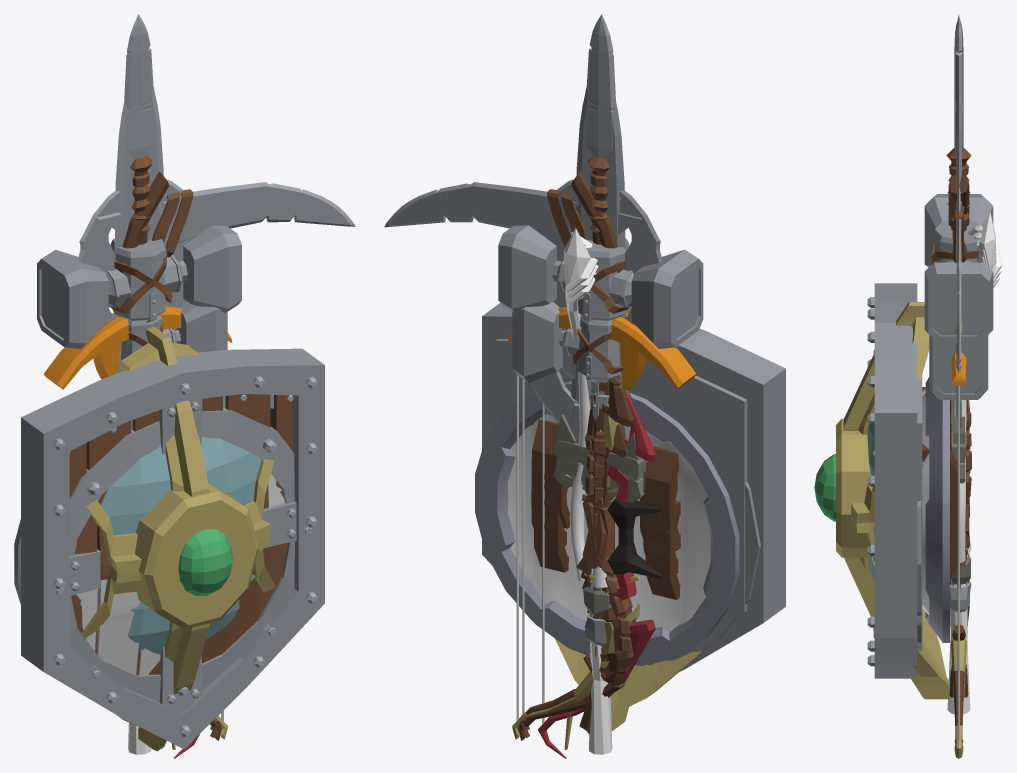
Rendered from weapons.glb.
The picture shows the model from 3 angles, left to right: view 1: azimuth 30°, elevation 25°; view 2: azimuth 150°, elevation 25°; view 3: azimuth 270°, elevation 25°; orthographic projection. The views are drawn at different scales.
Visible parts, largest first — view 1: kite, celticShield, warhammer, roundShield, quarteredShield, scythe, spear, hammer, twohand, pickaxe, battleaxe, bronzeAxe; view 2: woodenShield, kite, warhammer, square, scythe, hammer, bloodthornBow, spear, roundShield, twohand, goldenBow, longbow (+11 smaller); view 3: kite, celticShield, warhammer, woodenShield, hammer, scythe, goldenBow, emberStaff, spear, square, roundShield, twohand (+6 smaller).
Part boxes in pixels (x1=…): kite: x1=21, y1=348, x2=324, y2=749; celticShield: x1=82, y1=327, x2=275, y2=751; warhammer: x1=37, y1=225, x2=241, y2=348; roundShield: x1=56, y1=407, x2=311, y2=702; quarteredShield: x1=75, y1=421, x2=284, y2=689; scythe: x1=97, y1=171, x2=355, y2=272; spear: x1=124, y1=14, x2=154, y2=244; hammer: x1=116, y1=301, x2=227, y2=368; twohand: x1=113, y1=86, x2=164, y2=363; pickaxe: x1=44, y1=306, x2=232, y2=389; battleaxe: x1=77, y1=179, x2=194, y2=321; bronzeAxe: x1=93, y1=321, x2=163, y2=379; woodenShield: x1=475, y1=381, x2=739, y2=665; kite: x1=482, y1=303, x2=785, y2=672; warhammer: x1=498, y1=225, x2=703, y2=646; square: x1=495, y1=339, x2=747, y2=665; scythe: x1=384, y1=171, x2=641, y2=683; hammer: x1=512, y1=302, x2=623, y2=590; bloodthornBow: x1=538, y1=328, x2=662, y2=758; spear: x1=579, y1=14, x2=615, y2=734; roundShield: x1=492, y1=424, x2=760, y2=660; twohand: x1=555, y1=87, x2=645, y2=475; goldenBow: x1=512, y1=360, x2=640, y2=749; longbow: x1=518, y1=328, x2=634, y2=740; kite: x1=867, y1=283, x2=957, y2=678; celticShield: x1=814, y1=302, x2=950, y2=699; warhammer: x1=924, y1=194, x2=993, y2=612; woodenShield: x1=922, y1=377, x2=949, y2=642; hammer: x1=929, y1=335, x2=988, y2=555; scythe: x1=948, y1=175, x2=971, y2=640; goldenBow: x1=950, y1=322, x2=969, y2=758; emberStaff: x1=947, y1=211, x2=1002, y2=713; spear: x1=946, y1=15, x2=971, y2=697; square: x1=917, y1=375, x2=922, y2=650; roundShield: x1=873, y1=450, x2=957, y2=642; twohand: x1=951, y1=92, x2=969, y2=458.
Bounding box in the file's own units: 1.29 × 2.6 × 0.623.
